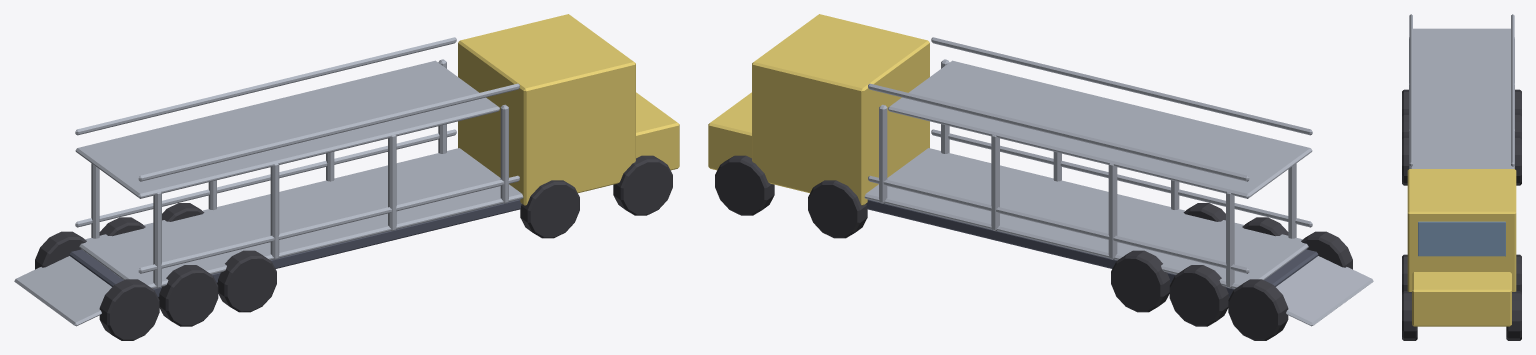
The model's file is oto-tasiyici.glb.
3 renders of one model, left to right at view 1: azimuth 30°, elevation 25°; view 2: azimuth 150°, elevation 25°; view 3: azimuth 270°, elevation 25°, orthographic. The views are drawn at different scales.
Visible parts, largest first — view 1: OtoTasiyici; view 2: OtoTasiyici; view 3: OtoTasiyici.
Part boxes in pixels (x1,y1,x2,y2): OtoTasiyici: (14, 14, 679, 340); OtoTasiyici: (708, 14, 1373, 340); OtoTasiyici: (1402, 14, 1521, 340).
Size of the model in its own units: 12.38 by 3.11 by 2.64.
